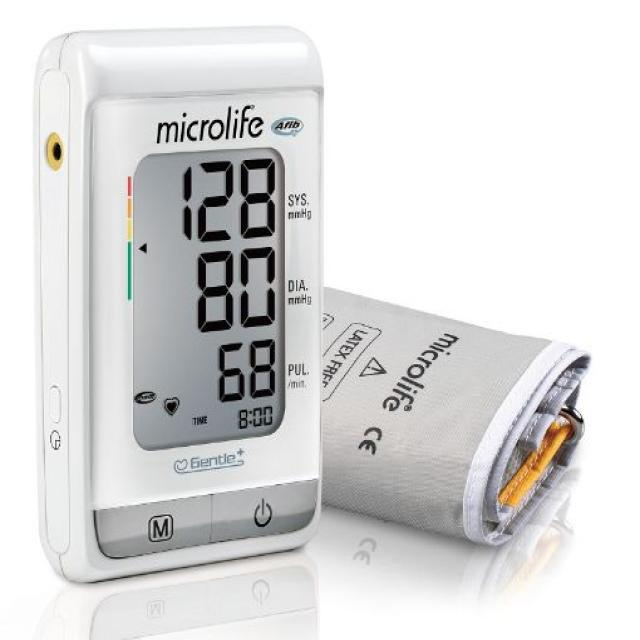dia: (187, 241, 288, 337)
pul: (208, 332, 286, 405)
ssd: (131, 147, 287, 453)
sys: (170, 152, 284, 245)
